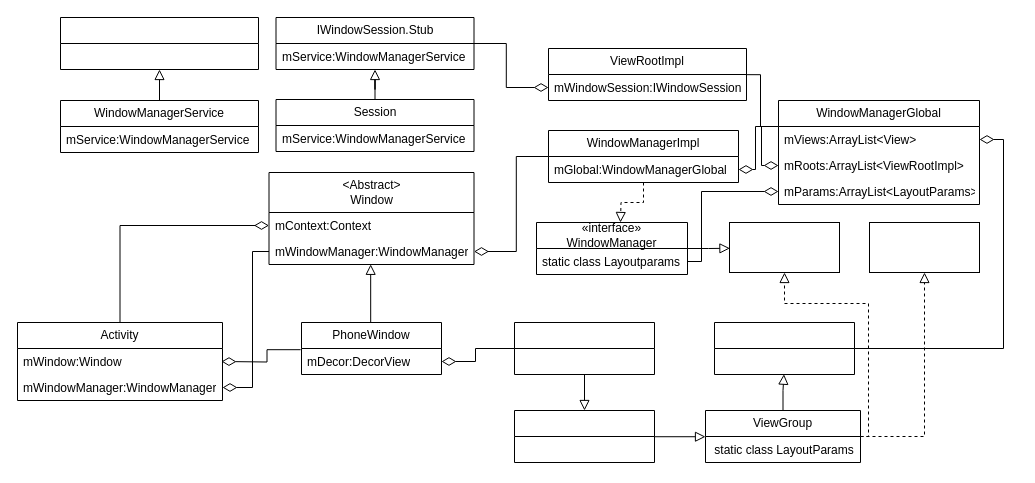
The diagram is 1035 pixels wide and 483 high, and some of its shapes have lost their labels. Here are the shapes that lost their labels. From the top down, the centre of each, then its label:
At [159,43]: "IWindowManager.Stub".
At [784,247]: "«interface» ViewManager".
At [924,247]: "«interface» ViewParent".
At [584,348]: "DecorView".
At [784,348]: "View".
At [584,436]: "FrameLayout".
